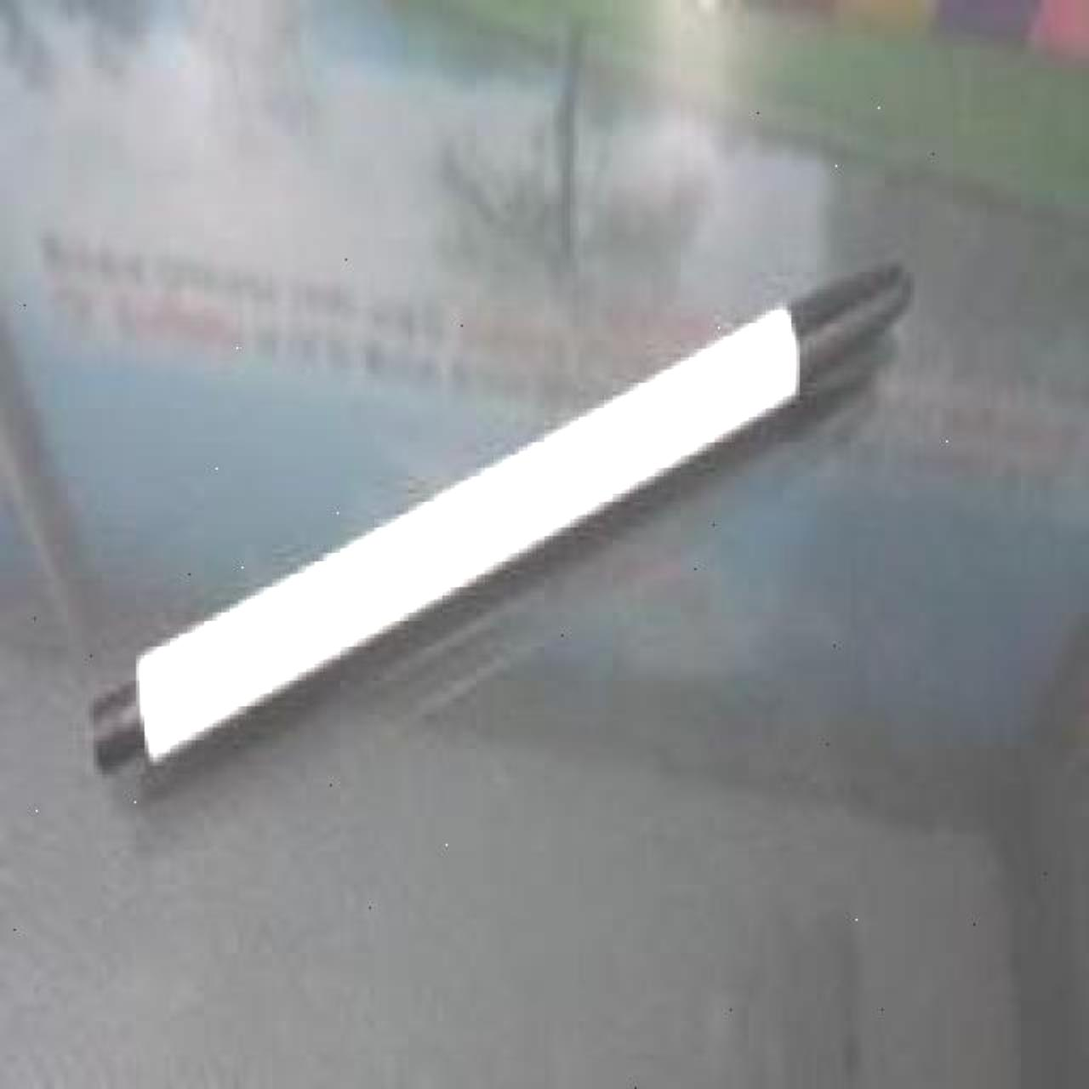pen: (82, 260, 924, 779)
